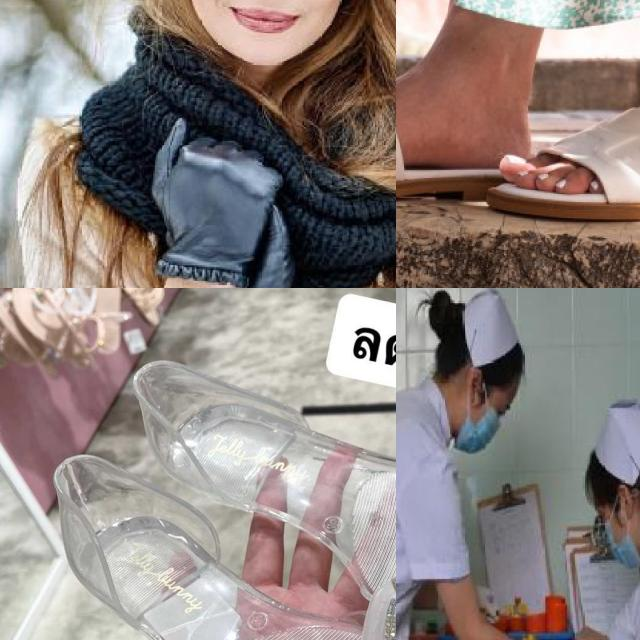Sandals: (34, 313, 396, 640), (486, 45, 640, 222), (396, 40, 506, 209)
face_mask: (580, 485, 640, 566), (449, 380, 507, 462)
face_nomask: (182, 0, 341, 63)
hand_glove: (152, 115, 284, 264), (214, 206, 307, 288)
hand_noglove: (564, 625, 608, 640)
head_nohelmet: (471, 288, 530, 412), (572, 450, 628, 499)
person: (0, 0, 396, 288), (396, 291, 528, 640), (564, 388, 640, 640)
